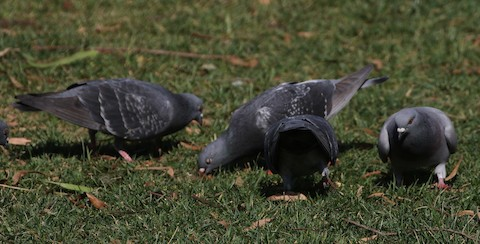pigeon: (194, 55, 386, 184), (10, 74, 207, 167), (253, 110, 349, 204), (371, 101, 464, 196)
